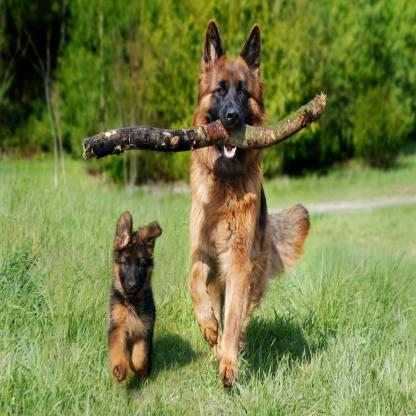dog: (191, 16, 307, 387), (108, 212, 162, 383)
